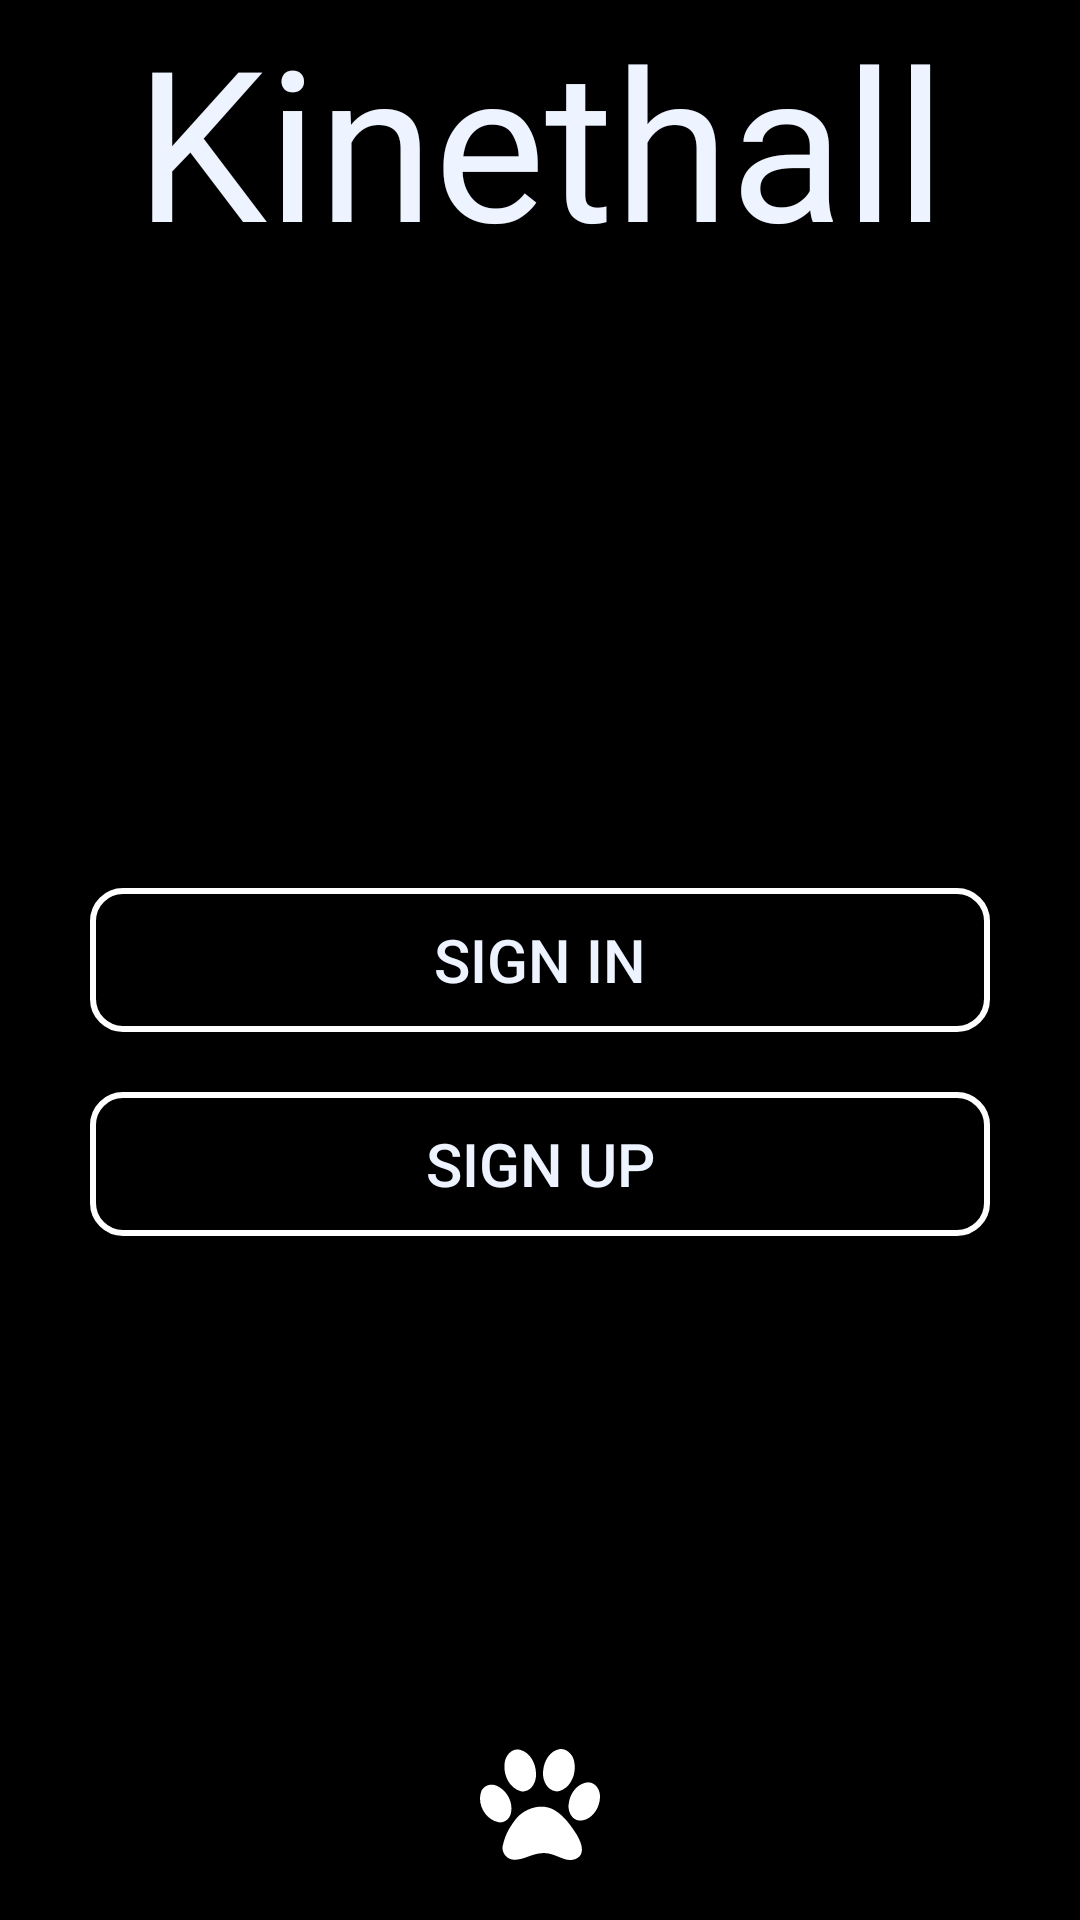

Icon click points for this 1080 × 1920 phone screenshot, format (x,y):
paw print: (540,1804)
